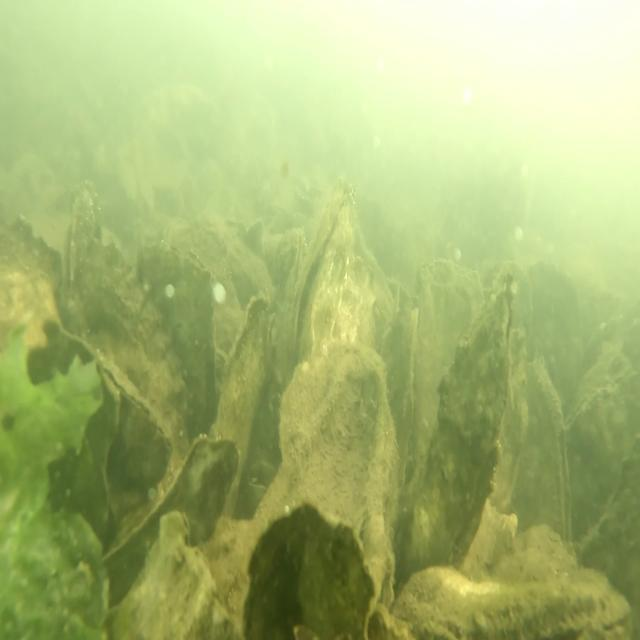Oyster-Closed: (396, 268, 515, 592), (63, 179, 188, 447), (43, 315, 171, 484), (393, 564, 630, 640), (112, 507, 231, 640), (134, 235, 215, 428), (563, 376, 640, 557), (507, 359, 573, 551), (266, 223, 307, 338)
Oyster-Indeterminate: (250, 343, 391, 607), (103, 433, 240, 608), (242, 502, 375, 640), (416, 259, 483, 475), (210, 292, 270, 493)
Oyster-Open: (291, 181, 395, 369)
